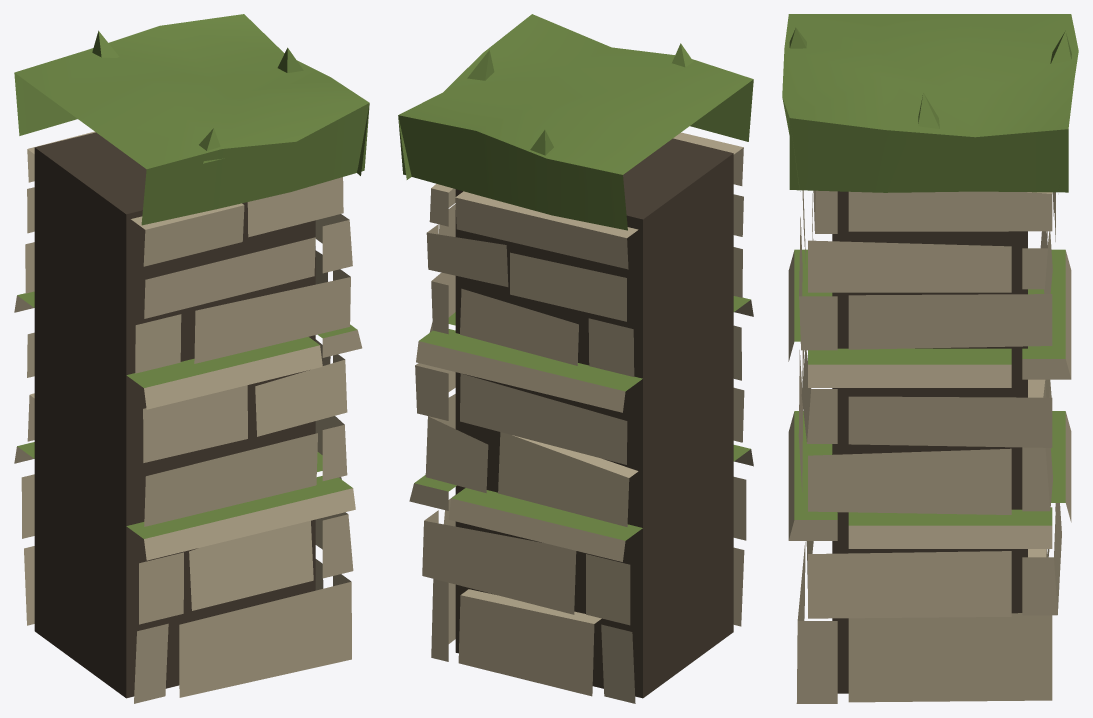
Rendered from grove-end.glb.
3 renders of one model, left to right at view 1: azimuth 30°, elevation 25°; view 2: azimuth 150°, elevation 25°; view 3: azimuth 270°, elevation 25°, orthographic. The views are drawn at different scales.
Visible parts, largest first — view 1: grove-end; view 2: grove-end; view 3: grove-end.
Part boxes in pixels (x1,y1,x2,y2): grove-end: [14, 14, 369, 703]; grove-end: [398, 14, 753, 703]; grove-end: [782, 14, 1078, 703].
Bounding box in the file's own units: 1.04 × 2.47 × 1.09.
